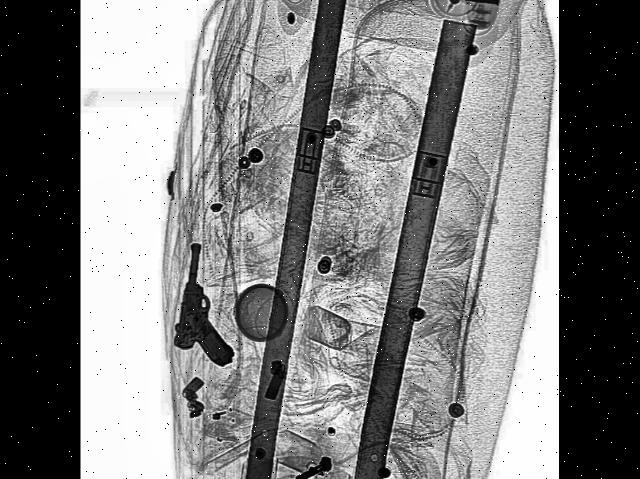Gun: (175, 243, 248, 372)
